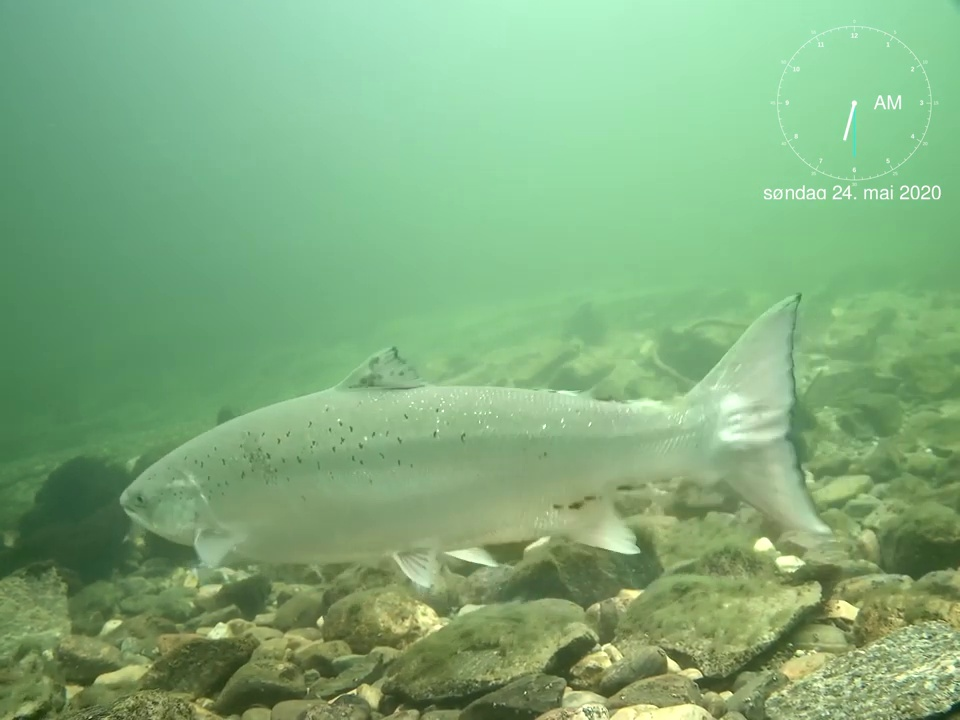salmon: (117, 291, 835, 591)
